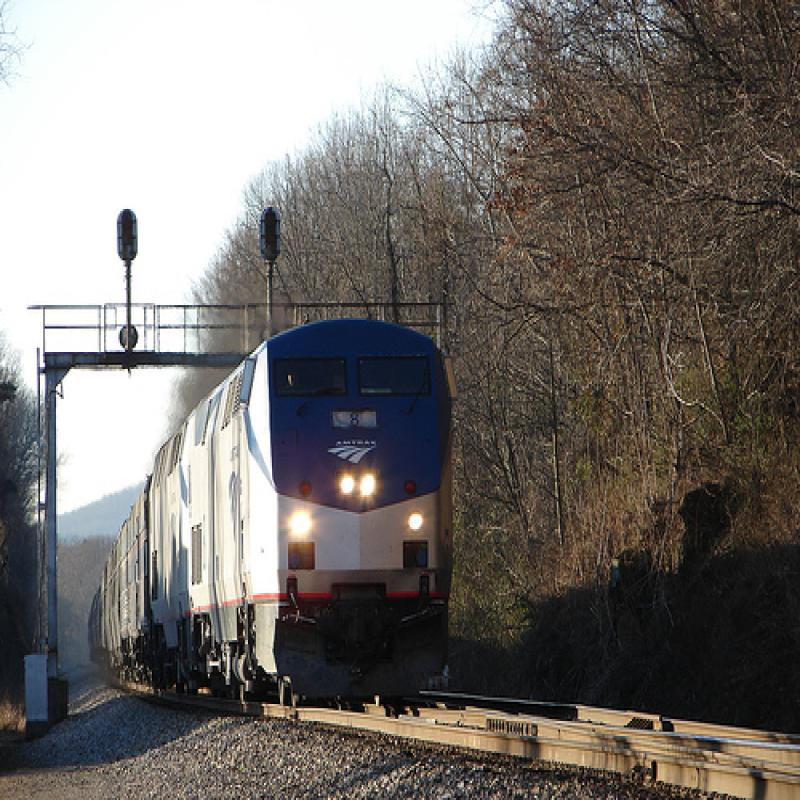train: (84, 306, 465, 711)
